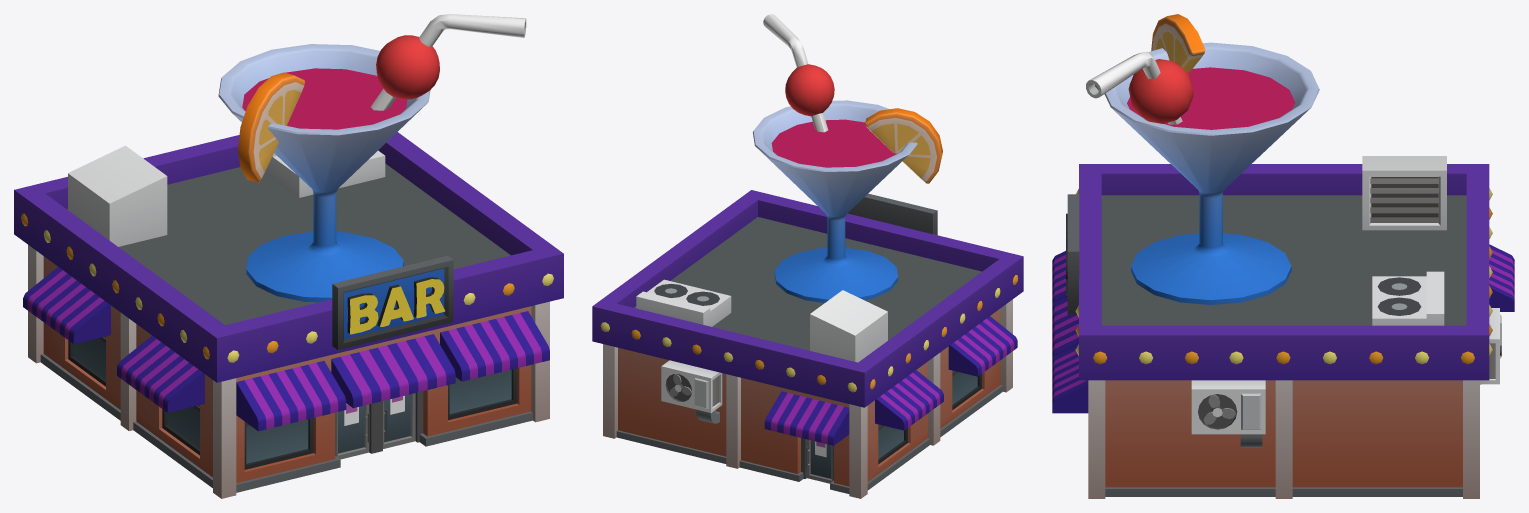
File: bar_001.glb
3 renders of one model, left to right at view 1: azimuth 30°, elevation 25°; view 2: azimuth 150°, elevation 25°; view 3: azimuth 270°, elevation 25°, orthographic. The views are drawn at different scales.
Visible parts, largest first — view 1: bar_001; view 2: bar_001; view 3: bar_001.
Part boxes in pixels (bbox=[...]): bar_001: bbox=[14, 14, 563, 498]; bar_001: bbox=[592, 14, 1023, 498]; bar_001: bbox=[1052, 14, 1514, 498].
Bounding box in the file's own units: 13.09 × 13.38 × 13.72.
Materials: 3 (3 with a texture image).
